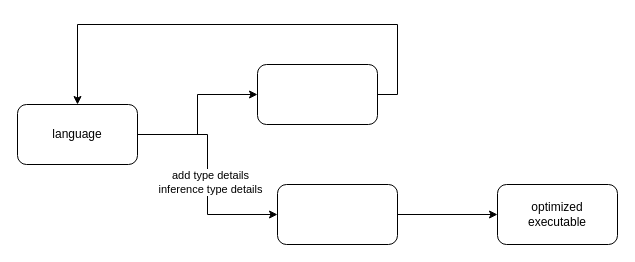
The diagram is 635 pixels wide and 262 high, and some of its shapes have lost their labels. The centre of each missing label's shape, as x and y in pixels:
"compiler" goes at (337,214).
"REPL" goes at (317,94).
